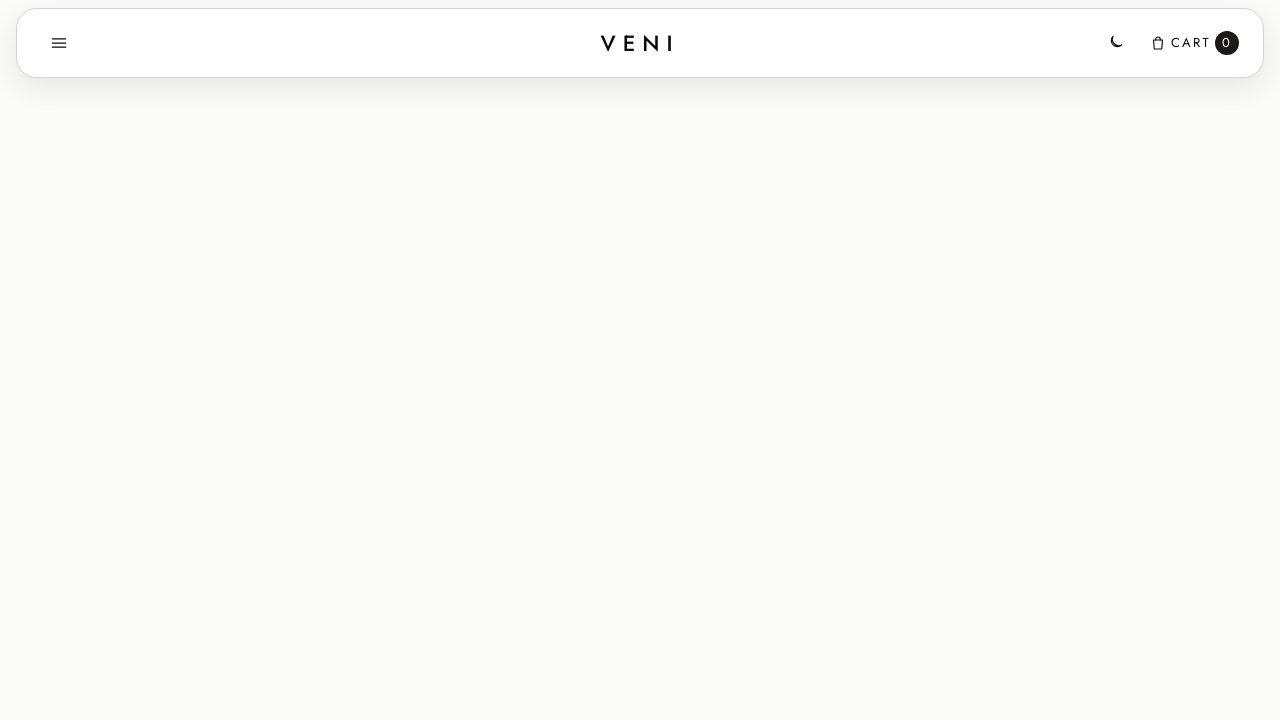
Test case: Header › opens the tray from the menu with search inside
This screenshot has width=1280, height=720.
(page scrolled)
Click the button named "menu".
click(59, 43)  # box [41,25,77,61]
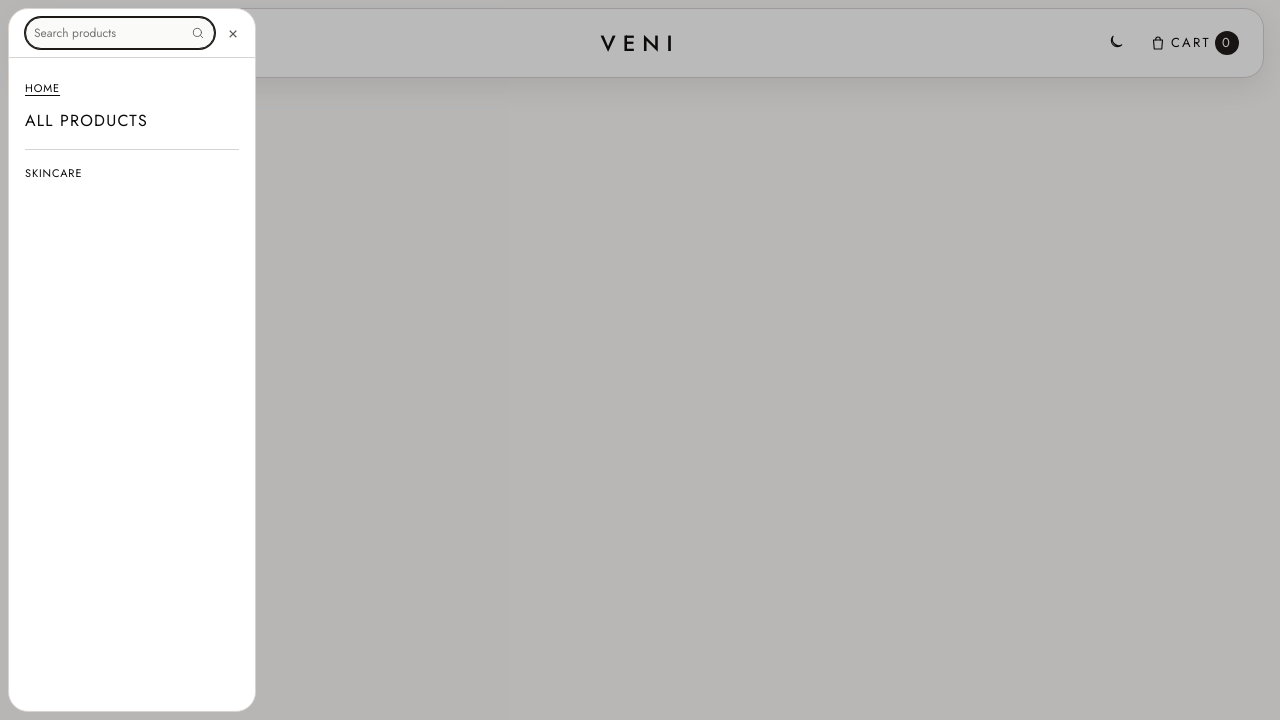
Result: the form is shown at [25,17,215,49]
Result: the search field labelled "Search products" is shown at [34,19,180,47]
Result: the icon is shown at [191,26,205,40]
